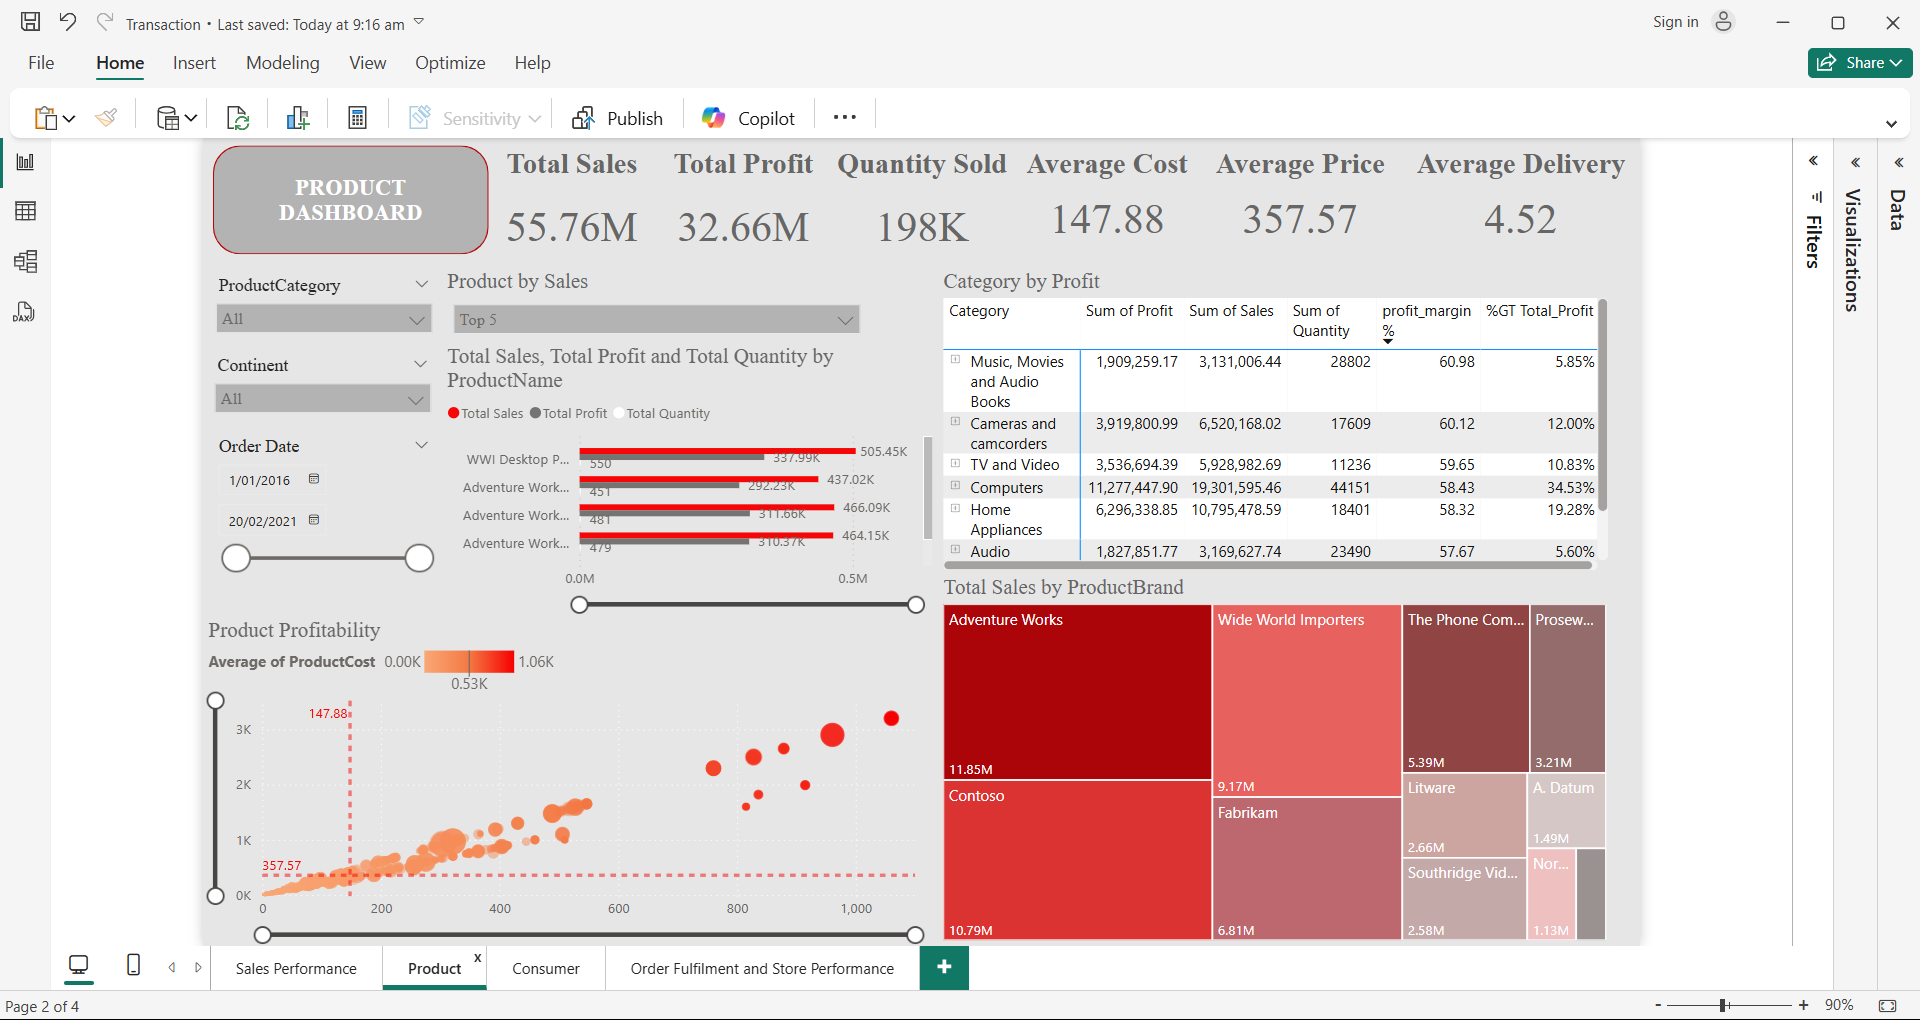

What the dashboard file says about the page in this screenshot:
{"tool":"powerbi","page":{"name":"Product ","canvas":[1280,720],"ordinal":1},"visuals":[{"type":"pivotTable","title":"Category by Profit","fields":{"Rows":["Category.ProductCategory","SubCategory.ProductSubcategory"],"Values":["Sum(Transactions.Profit)","Sum(Transactions.Sales)","Sum(Transactions.Quantity)","Transactions.profit_margin","Transactions.Total_Profit"]},"box":[654.3,117.1,601.4,272.9],"z":0},{"type":"slicer","fields":{"Values":["Order.OrderDate"]},"box":[1.4,260.7,212.7,166],"z":1000},{"type":"treemap","title":"Total Sales by ProductBrand","fields":{"Group":["Products.ProductBrand"],"Values":["Transactions.Total_Sales"]},"box":[654.3,390,600,330],"z":2000},{"type":"scatterChart","title":"Product Profitability","fields":{"X":["Avg(Products.ProductCost)"],"Y":["Avg(Products.ProductPrice)"],"Category":["Products.ProductName"],"Size":["Transactions.Total_Profit"]},"box":[0,427.1,654.3,292.9],"z":3000},{"type":"slicer","title":"Product by Sales","fields":{"Values":["TopBottom slicer.category"]},"box":[212.7,116.6,382.8,67.2],"z":4000},{"type":"clusteredBarChart","fields":{"Category":["Products.ProductName"],"Y":["Sum(Transactions.Sales)","Sum(Transactions.Profit)","Sum(Transactions.Quantity)"]},"box":[212.7,183.9,441.9,242.9],"z":5000},{"type":"slicer","fields":{"Values":["Customers.CustomerContinent"]},"box":[0,188.6,212.9,72.9],"z":6000},{"type":"slicer","fields":{"Values":["Category.ProductCategory"]},"box":[1.4,117.1,212.9,71.4],"z":7000},{"type":"card","title":"Average Delivery","fields":{"Values":["OrderTable.OrderProcessingTime"]},"box":[1066.2,0,214.1,116.6],"z":8000},{"type":"card","title":"Quantity Sold","fields":{"Values":["Sum(Transactions.Quantity)"]},"box":[542.9,0,178.6,117.1],"z":9000},{"type":"card","title":"Total Sales","fields":{"Values":["Transactions.Total_Sales"]},"box":[177.1,0,210,117.1],"z":10000},{"type":"card","title":"Total Profit","fields":{"Values":["Transactions.Total_Profit"]},"box":[355.7,0,187.1,117.1],"z":11000},{"type":"card","title":"Average Cost","fields":{"Values":["Category.Avg-cost-ref"]},"box":[712.9,0,170,117.1],"z":12000},{"type":"card","title":"Average Price","fields":{"Values":["Category.Avg price_ref"]},"box":[888.6,0,177.1,117.1],"z":13000}]}

Visuals, with their boxes on the page's 1280x720 design canvas (x1, y1, x2, y2). These are canvas units, not pixel positions in the 1920x1020 screenshot, which may show the page scaled, cropped or inside an application window:
"Category by Profit" pivotTable: (left=654, top=117, right=1256, bottom=390)
slicer - Order.OrderDate: (left=1, top=261, right=214, bottom=427)
"Total Sales by ProductBrand" treemap: (left=654, top=390, right=1254, bottom=720)
"Product Profitability" scatterChart: (left=0, top=427, right=654, bottom=720)
"Product by Sales" slicer: (left=213, top=117, right=596, bottom=184)
clusteredBarChart - Products.ProductName x Sum(Transactions.Sales): (left=213, top=184, right=655, bottom=427)
slicer - Customers.CustomerContinent: (left=0, top=189, right=213, bottom=262)
slicer - Category.ProductCategory: (left=1, top=117, right=214, bottom=188)
"Average Delivery" card: (left=1066, top=0, right=1280, bottom=117)
"Quantity Sold" card: (left=543, top=0, right=722, bottom=117)
"Total Sales" card: (left=177, top=0, right=387, bottom=117)
"Total Profit" card: (left=356, top=0, right=543, bottom=117)
"Average Cost" card: (left=713, top=0, right=883, bottom=117)
"Average Price" card: (left=889, top=0, right=1066, bottom=117)
